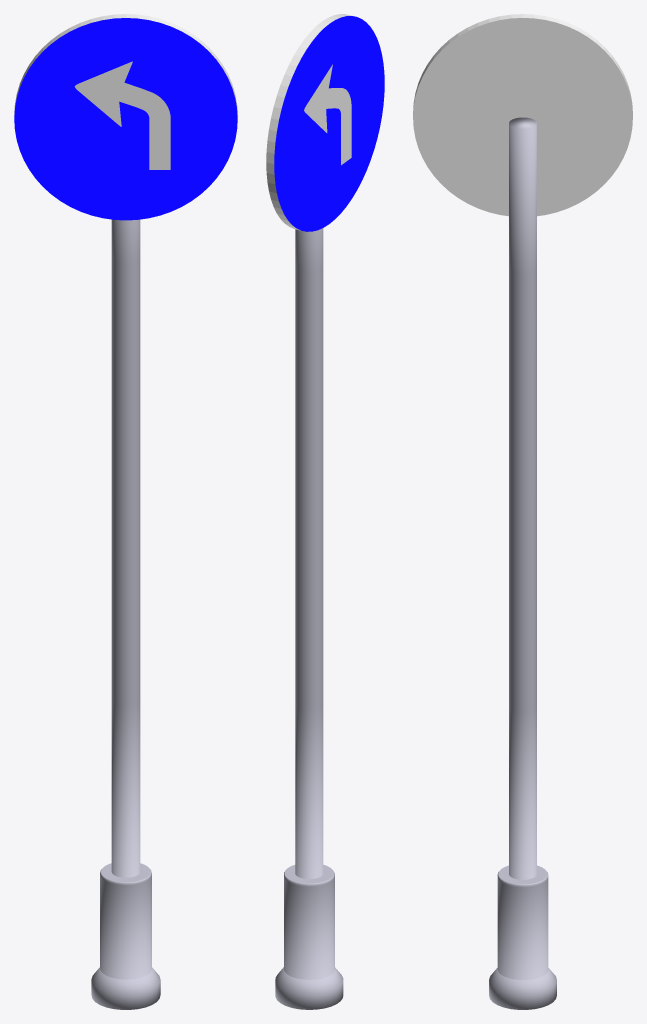
File: SolaMecburiYonTabelasi.dae
The picture shows the model from 3 angles, left to right: view 1: azimuth 90°, elevation 25°; view 2: azimuth 150°, elevation 25°; view 3: azimuth 270°, elevation 25°; orthographic projection.
Parts seen in each view (by area): view 1: turnLeftSing, turnLeftBody; view 2: turnLeftBody, turnLeftSing; view 3: turnLeftSing, turnLeftBody.
Boxes of the visible parts, bbox=[...] form: turnLeftSing: bbox=[14, 14, 237, 220]; turnLeftBody: bbox=[91, 219, 160, 1009]; turnLeftBody: bbox=[275, 228, 343, 1009]; turnLeftSing: bbox=[266, 14, 384, 231]; turnLeftSing: bbox=[413, 14, 632, 216]; turnLeftBody: bbox=[489, 117, 556, 1009].
Bounding box in the file's own units: 0.1839 × 0.6 × 2.93.
